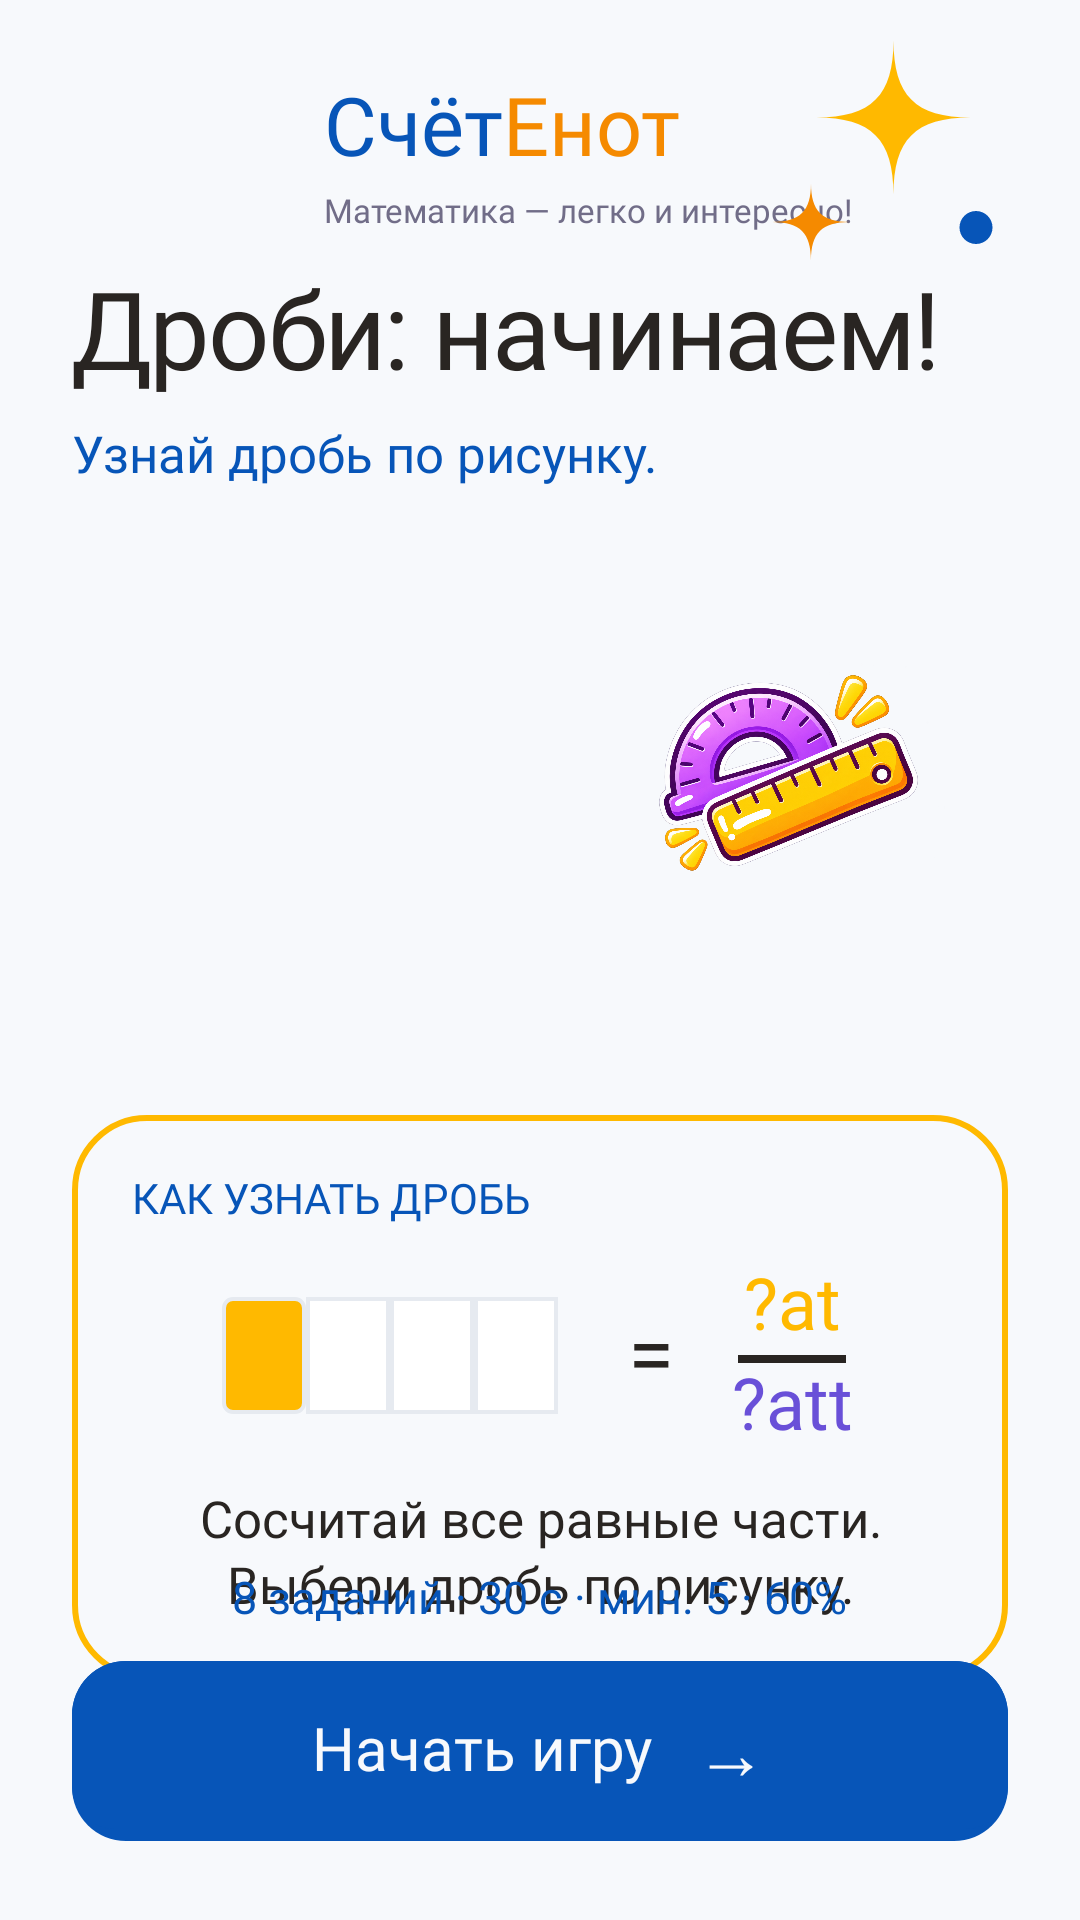

Where icons sit on this 1080 × 1920 app screen, as Rect(x1, y1, x2, y2):
decor math tools: Rect(659, 675, 918, 871)
decor sparkles: Rect(756, 42, 993, 259)
